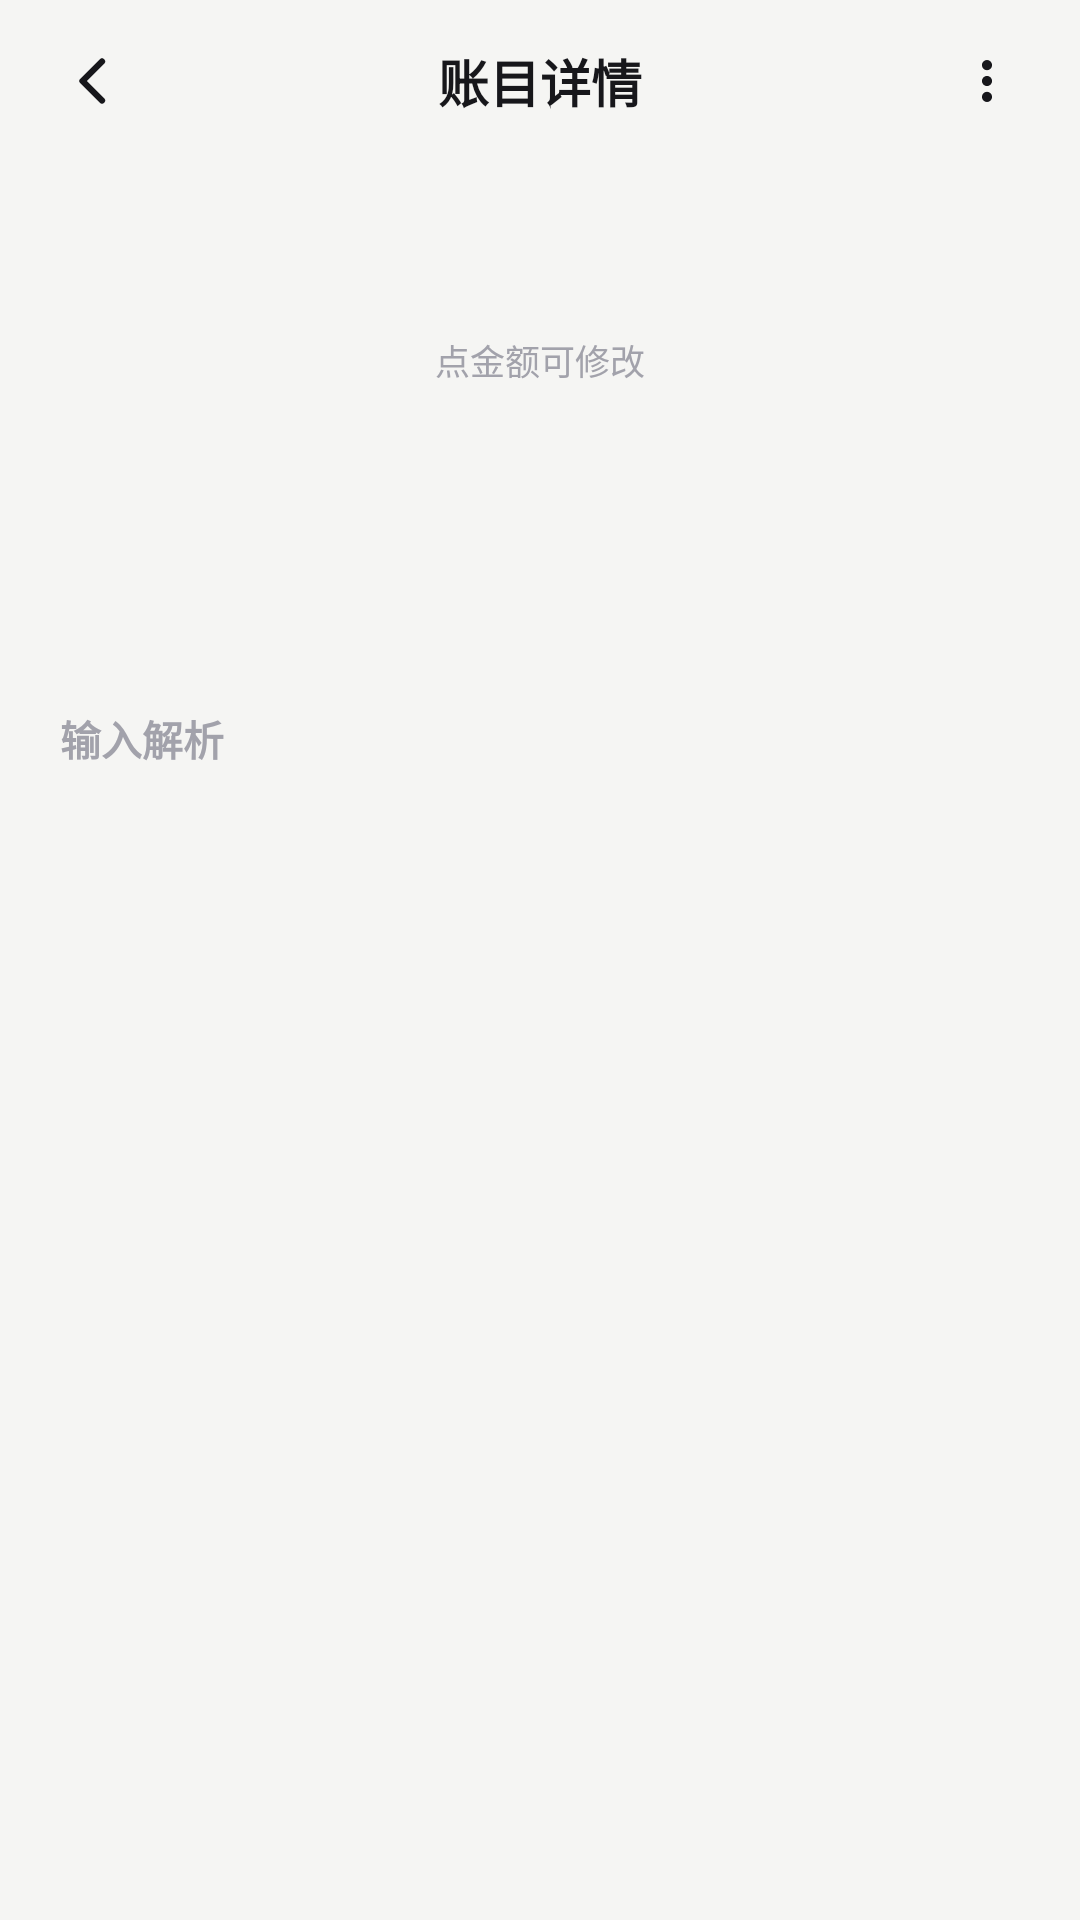

Named icons in this screenshot (1080px×1920px) and their centers, point (x, y):
更多操作: point (987, 81)
返回: point (92, 81)
